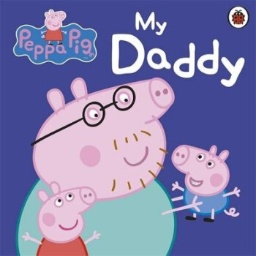Peppa: (20, 178, 105, 256)
